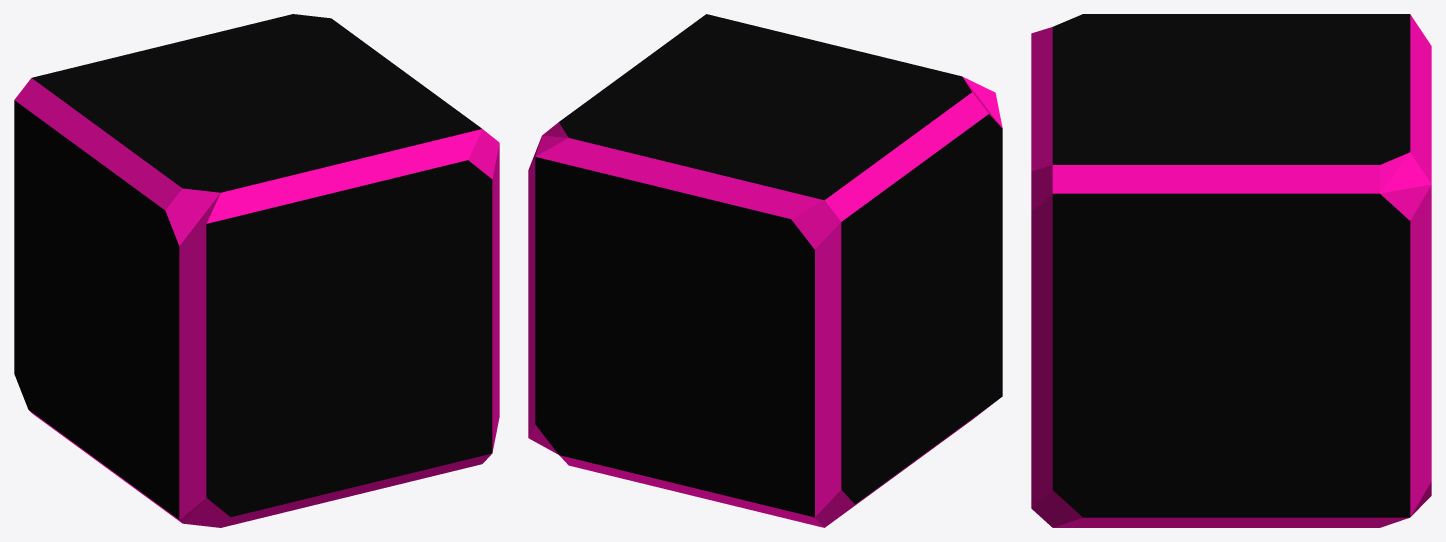
File: decor2.FBX
3 renders of one model, left to right at view 1: azimuth 30°, elevation 25°; view 2: azimuth 150°, elevation 25°; view 3: azimuth 270°, elevation 25°, orthographic. The views are drawn at different scales.
Parts seen in each view (by area): view 1: Decoration2; view 2: Decoration2; view 3: Decoration2.
Boxes of the visible parts, x1,y1,x2,y2 form: Decoration2: (14, 14, 499, 527); Decoration2: (528, 14, 1002, 527); Decoration2: (1031, 14, 1431, 527).
Bounding box in the file's own units: 54.08 × 54.08 × 54.08.
